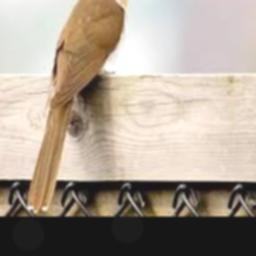Cuckoo: (28, 0, 149, 211)
